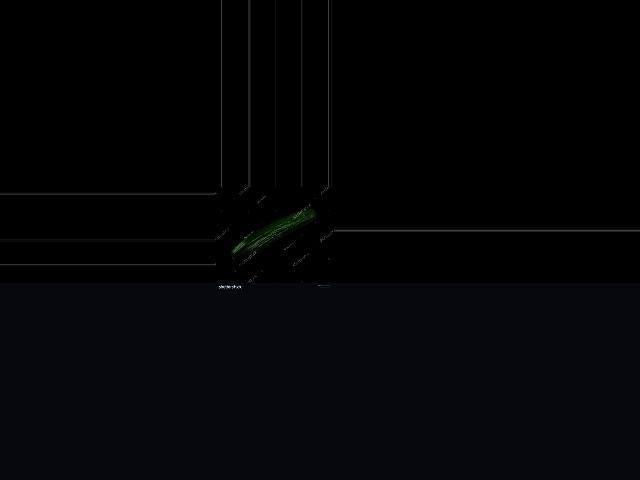cucumber: (231, 208, 317, 263)
